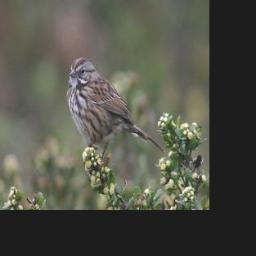Sparrow: (63, 56, 166, 168)
